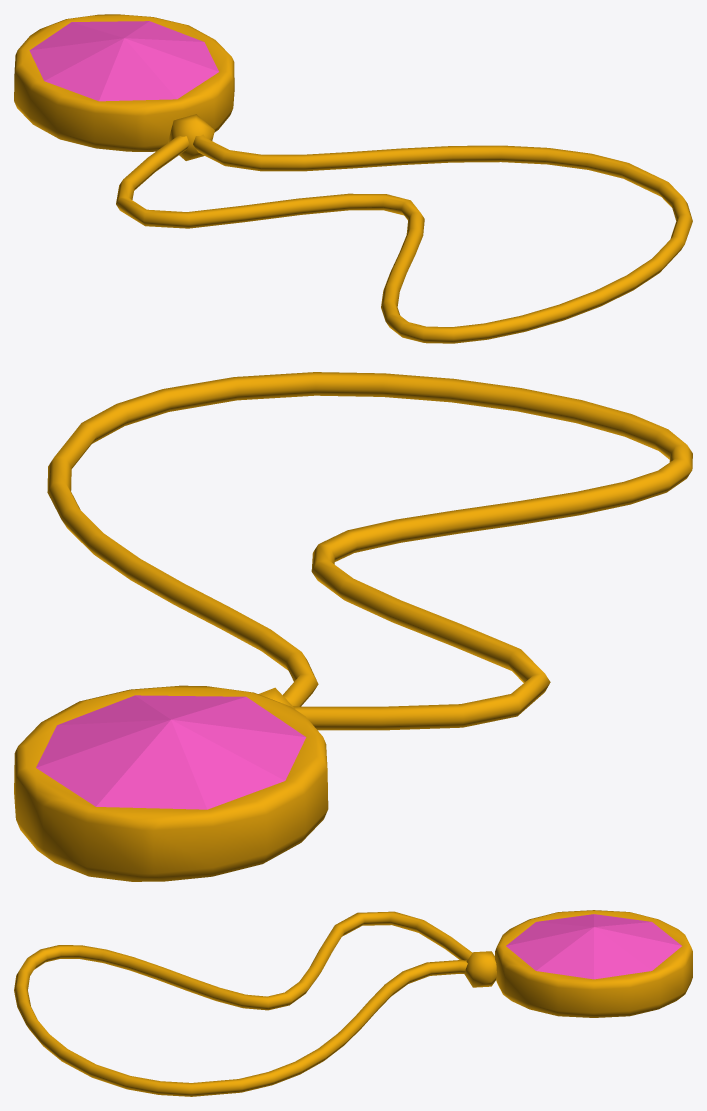
The model's file is props_necklace.fbx.
3 renders of one model, top to bottom at view 1: azimuth 30°, elevation 25°; view 2: azimuth 150°, elevation 25°; view 3: azimuth 270°, elevation 25°, orthographic. The views are drawn at different scales.
Parts seen in each view (by area): view 1: Necklace; view 2: Necklace; view 3: Necklace.
Part boxes in pixels (left/top/right/bottom): Necklace: left=14, top=14, right=692, bottom=343; Necklace: left=14, top=372, right=692, bottom=881; Necklace: left=14, top=910, right=692, bottom=1096.
Size of the model in its own units: 0.6 by 0.9724 by 0.0936.
